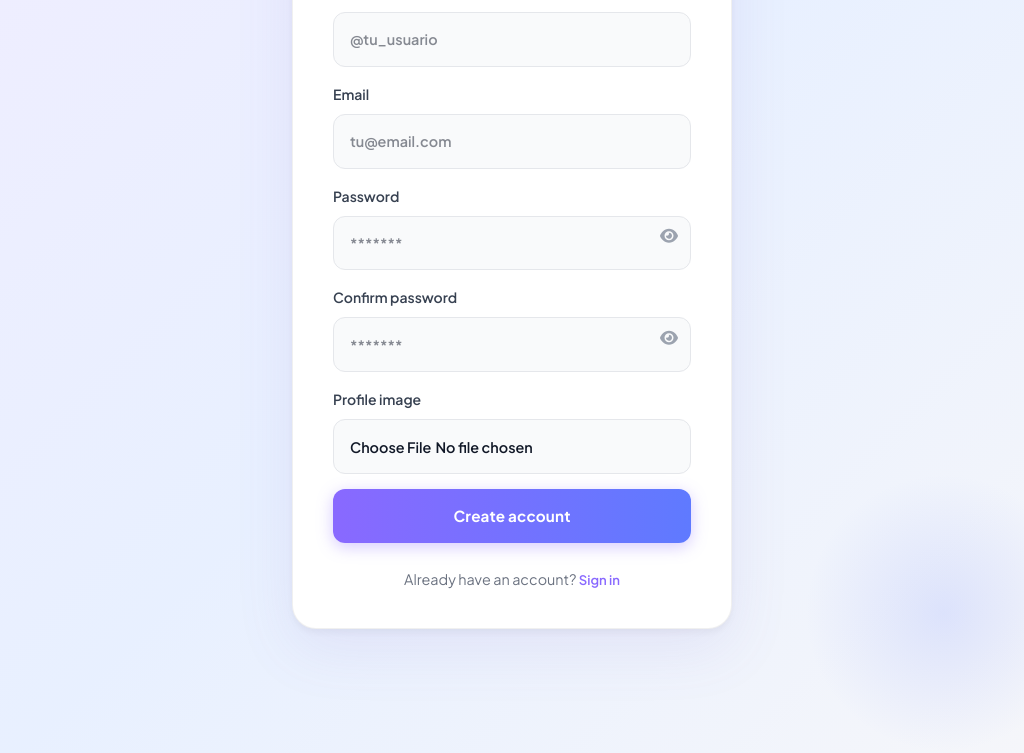
Scenario: Register component › Empty submit › Show all errors and don't fetch
(page scrolled)
Click the button "Create account" at (512, 516), box [333,489,691,543]
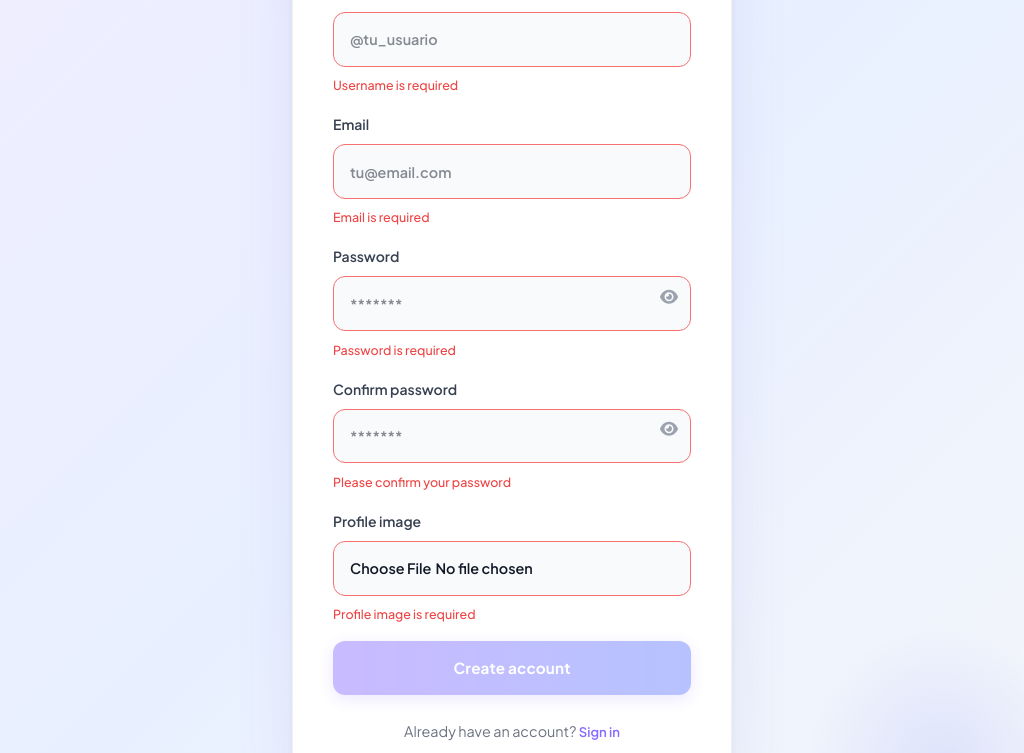
Check: the text "Username is required" is shown, box [333,77,458,93]
Check: the text "Email is required" is shown, box [333,209,430,225]
Check: the text "Password is required" is shown, box [333,342,456,358]
